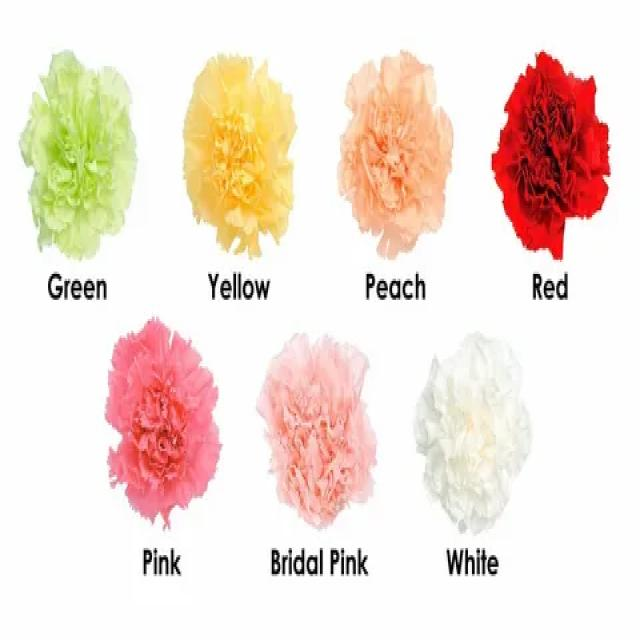carnation: (483, 40, 622, 269), (99, 300, 224, 535), (332, 40, 460, 267), (408, 323, 537, 541), (251, 320, 377, 536)
